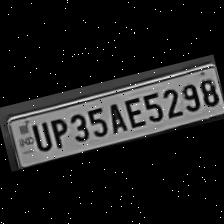2: (156, 82, 183, 120)
3: (64, 108, 90, 144)
5: (138, 86, 165, 124), (82, 102, 109, 138)
8: (194, 72, 221, 108)
9: (174, 77, 202, 113)
A: (100, 96, 127, 134)
E: (119, 91, 147, 129)
P: (44, 111, 72, 150)
U: (27, 116, 52, 154)
